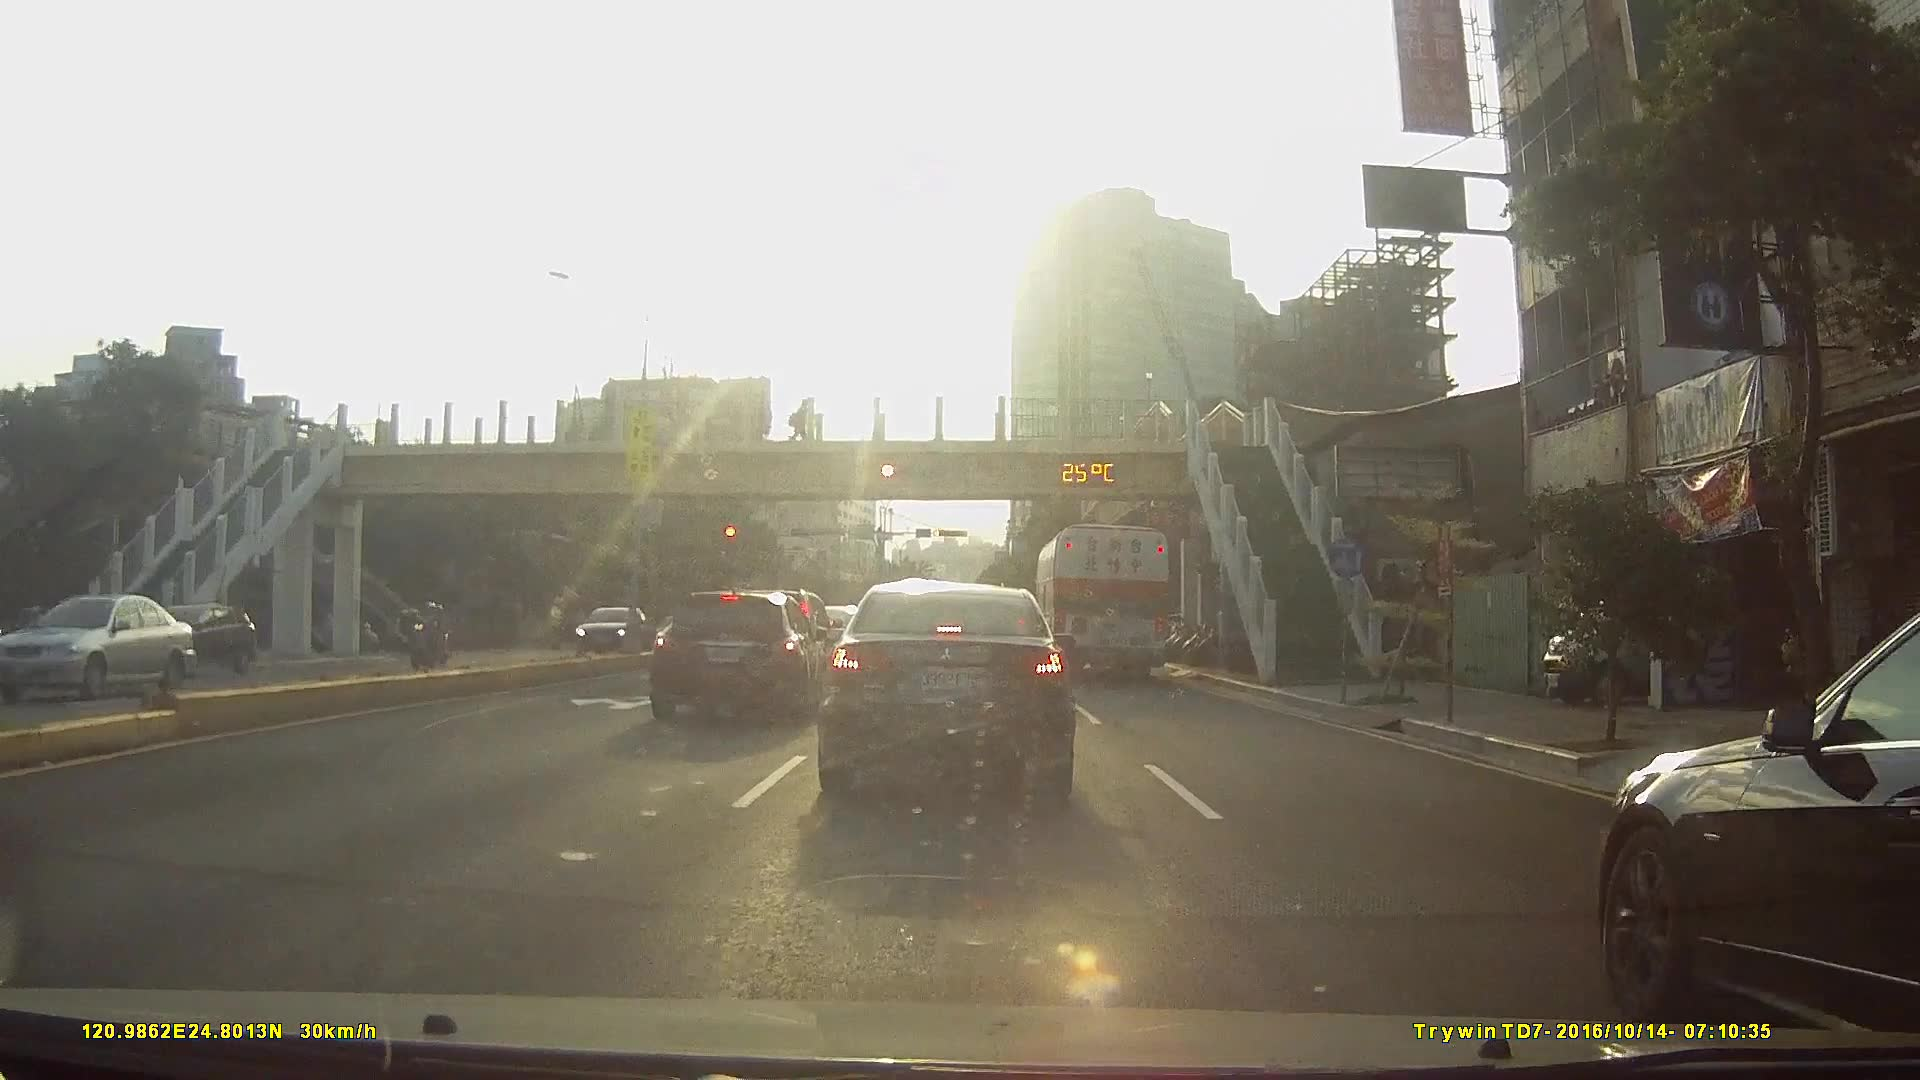pedestrian: (789, 398, 810, 445)
rider: (409, 597, 456, 670)
vehicle: (1580, 592, 1920, 1048), (814, 579, 1077, 800), (642, 585, 830, 726), (1036, 521, 1174, 683), (0, 592, 178, 702), (18, 597, 156, 683), (139, 600, 254, 675), (565, 604, 651, 657)
